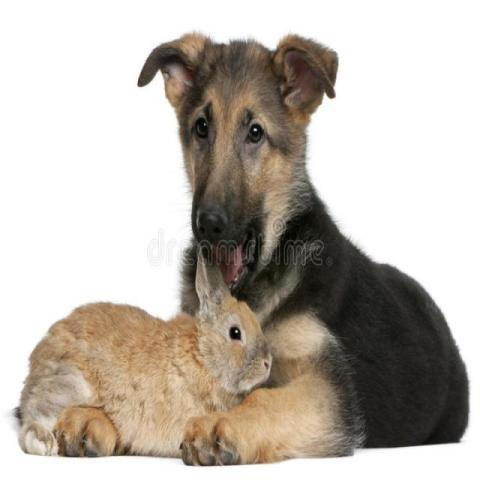small_animal: (133, 29, 471, 465), (12, 246, 275, 460)
